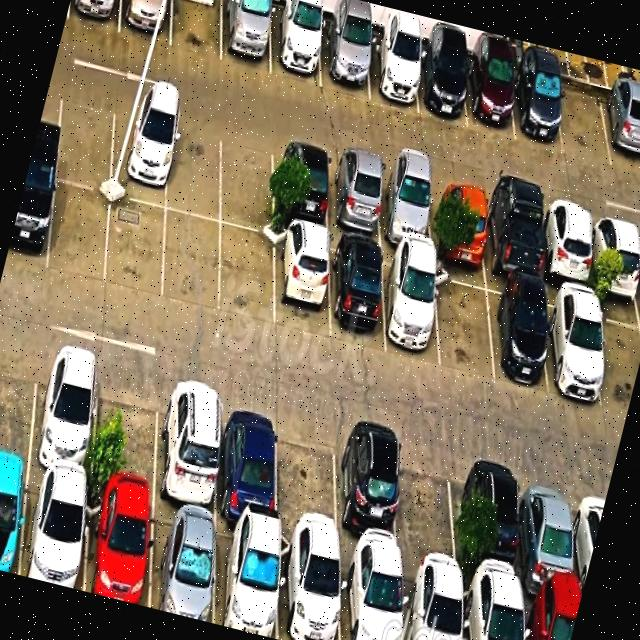empty: (92, 359, 160, 501), (277, 407, 338, 547), (401, 434, 458, 577), (434, 265, 494, 379), (47, 180, 111, 284), (105, 195, 166, 301), (55, 84, 115, 191), (162, 210, 220, 313), (220, 125, 273, 235), (166, 113, 220, 220), (219, 225, 273, 327), (597, 296, 640, 416), (0, 334, 39, 466), (556, 78, 611, 166), (170, 0, 222, 60)
occupied: (28, 342, 99, 484), (155, 375, 221, 516), (337, 421, 401, 562), (216, 391, 278, 529), (20, 471, 88, 591), (85, 487, 151, 607), (149, 503, 215, 623), (522, 463, 578, 602), (214, 520, 278, 639), (470, 450, 522, 590), (543, 285, 604, 404), (110, 98, 172, 208), (486, 276, 547, 387), (382, 250, 439, 366), (278, 534, 340, 640), (330, 236, 385, 349), (275, 224, 329, 338), (340, 552, 402, 640), (484, 188, 541, 282), (5, 168, 56, 271), (431, 175, 486, 267), (274, 138, 328, 231), (378, 162, 432, 251), (329, 151, 382, 241), (541, 200, 593, 289), (402, 564, 462, 640), (513, 64, 563, 153), (591, 210, 640, 300), (270, 4, 321, 87), (466, 53, 515, 139), (415, 45, 467, 126), (367, 33, 418, 112), (463, 578, 523, 640), (321, 21, 369, 97), (221, 0, 270, 74), (600, 88, 640, 173), (0, 465, 28, 574), (522, 590, 580, 640), (119, 0, 172, 45), (67, 0, 121, 32)
